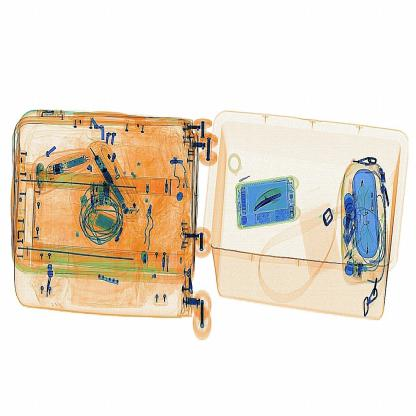pliers: (245, 175, 293, 218)
